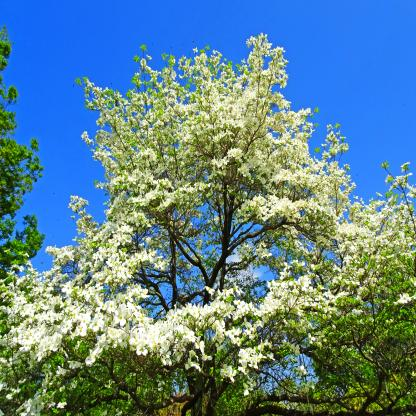Mokuren: (0, 32, 416, 416)
